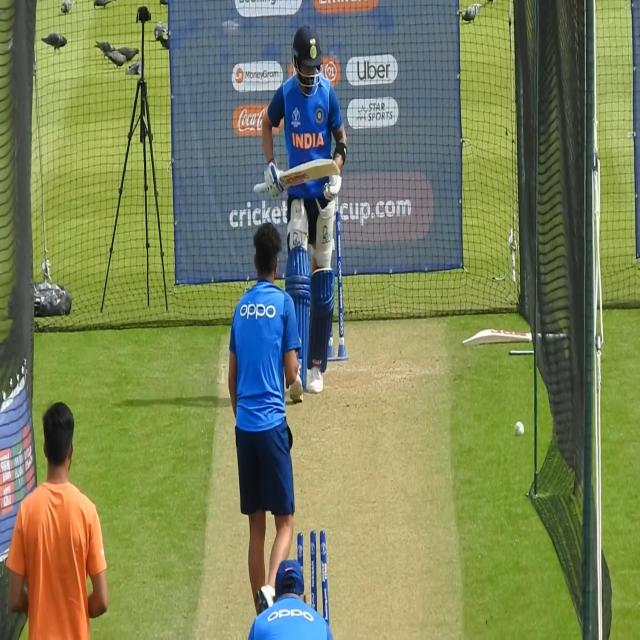Cricket ball: (513, 419, 526, 440)
